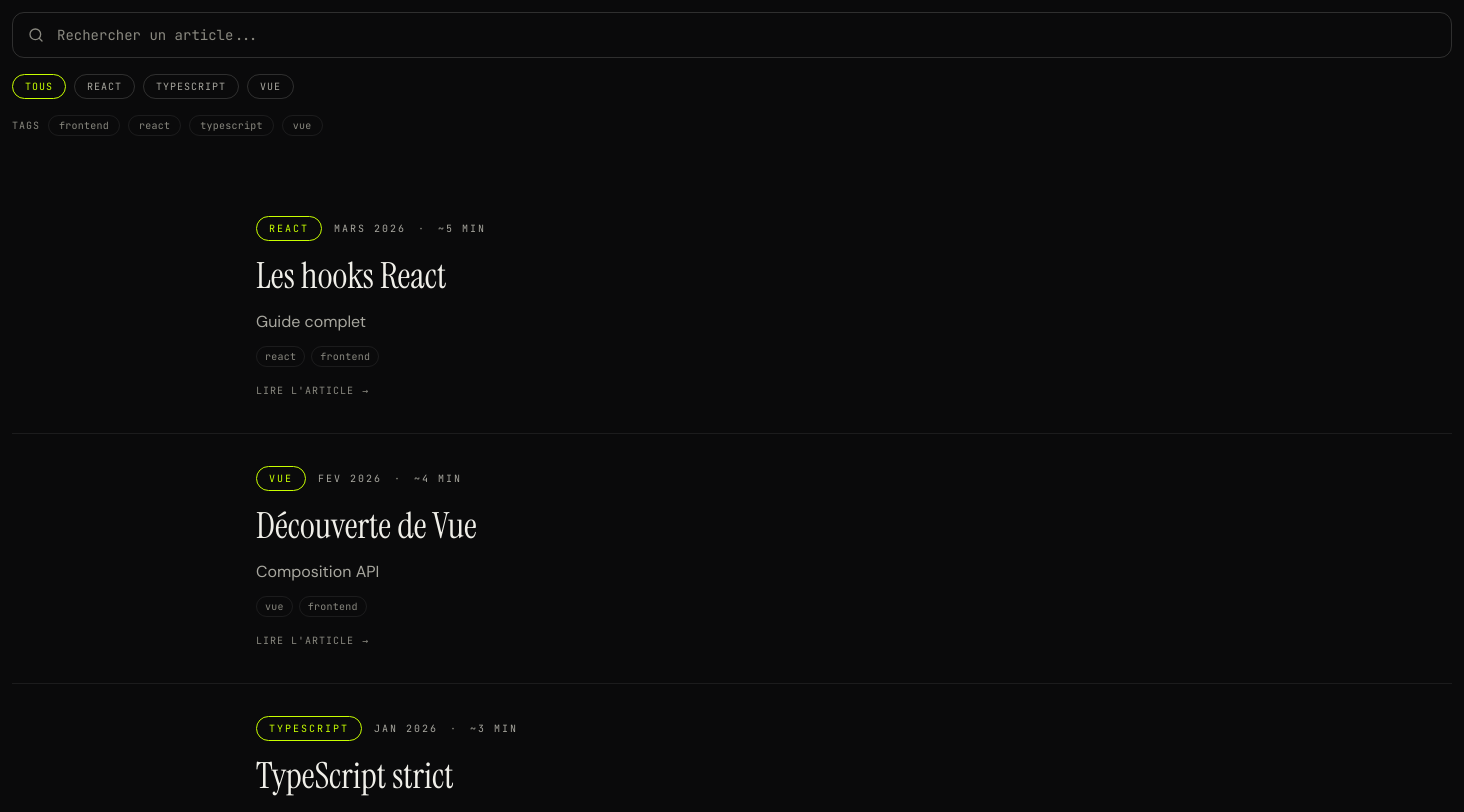
Test case: NotesFilters › recherche full-text via l'input
In the search field: (732, 35) [12,12,1452,58], type "hooks"
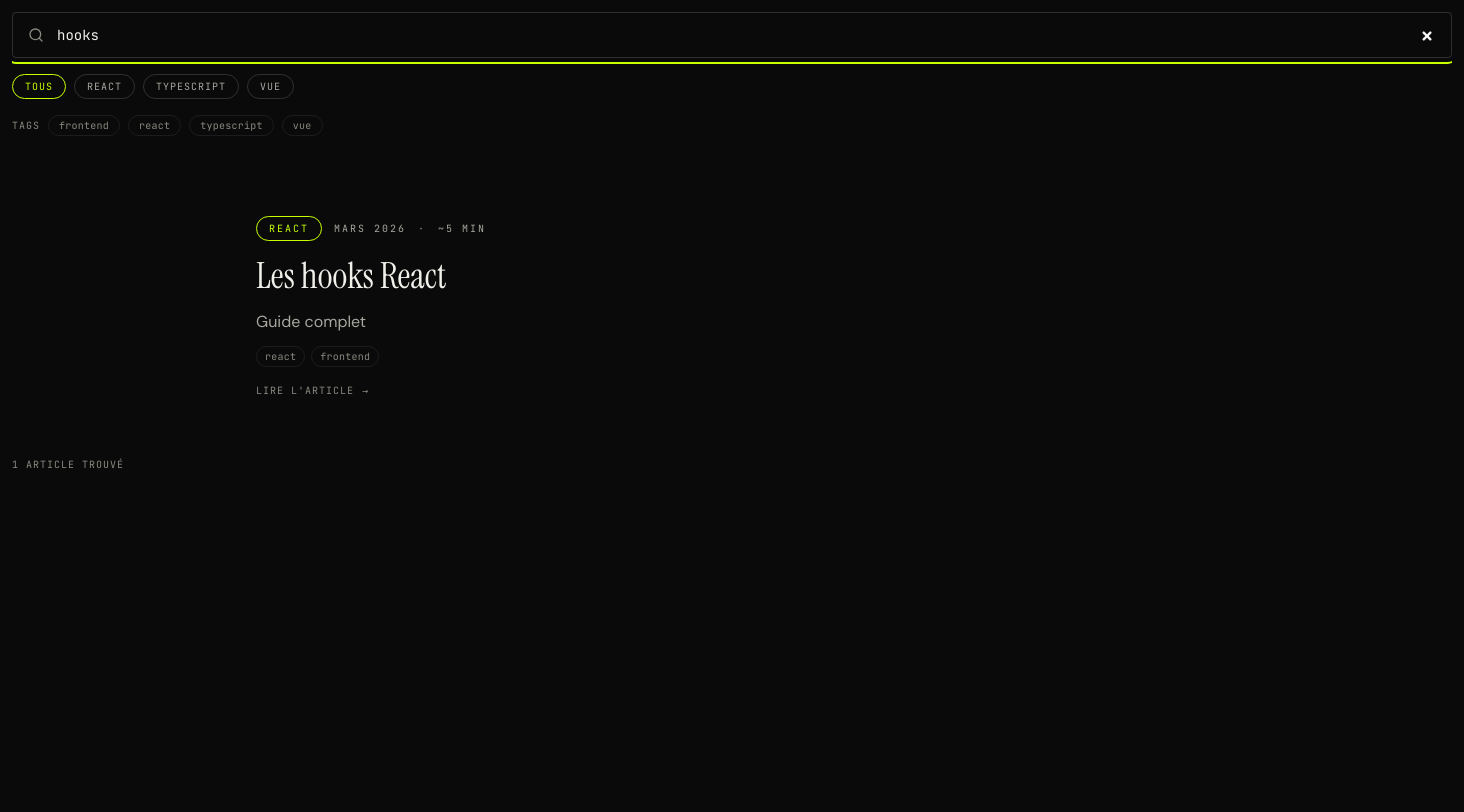
Expected: the heading "Les hooks React" is shown, [256,252,446,299]
Expected: the link "TypeScript strict" is gone
